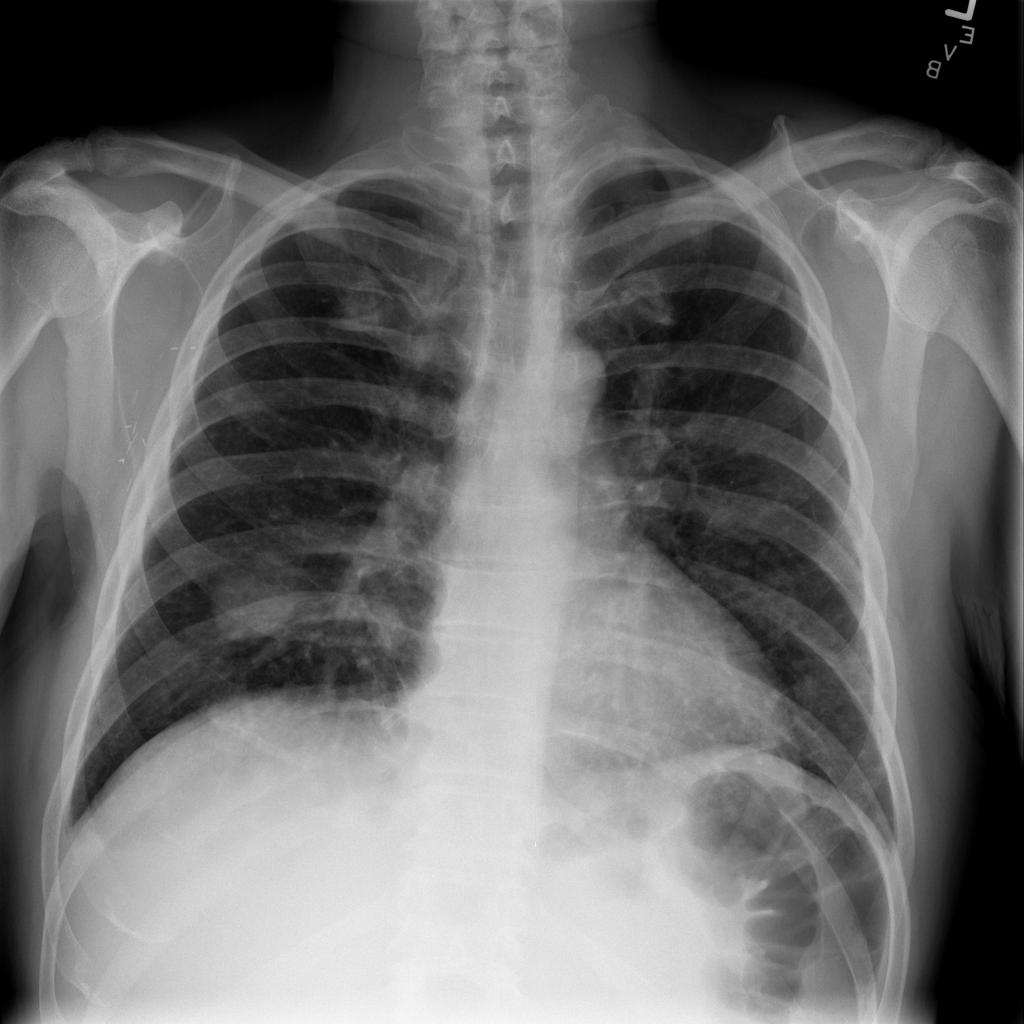nodule: (193, 547, 331, 657), (773, 652, 848, 719)
